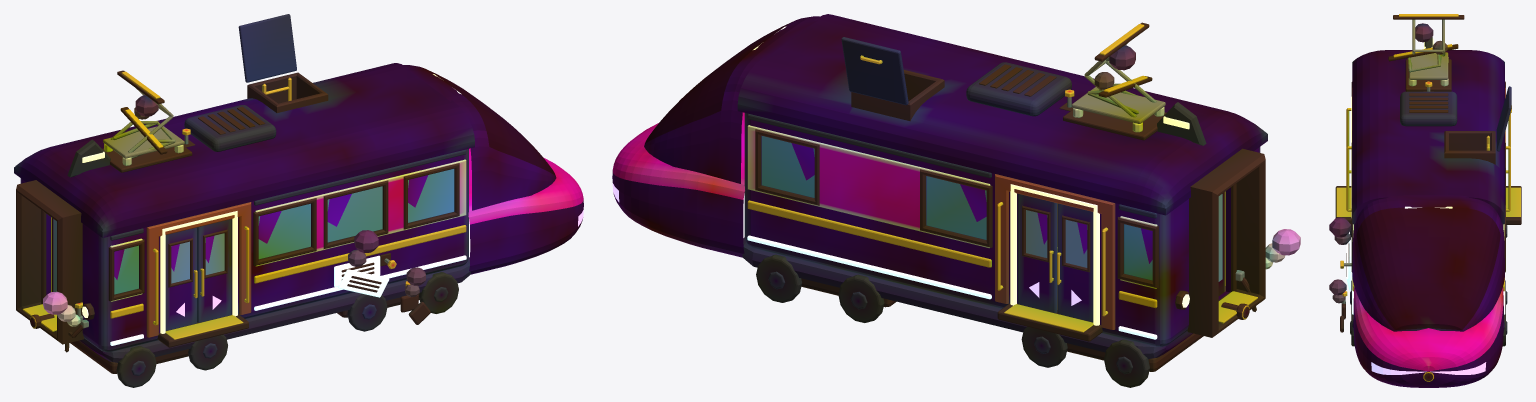
Rendered from FuturisticCabCar_Blockout.glb.
3 renders of one model, left to right at view 1: azimuth 30°, elevation 25°; view 2: azimuth 150°, elevation 25°; view 3: azimuth 270°, elevation 25°, orthographic. The views are drawn at different scales.
Parts seen in each view (by area): view 1: Roof, Body, Nose, Windows, Underframe, Ends, Livery, DoorPortal, SideDoorLeaf_R, SideDoorLeaf_L, RoofHatch_Cab, WindowBand (+8 smaller); view 2: Roof, Body, Nose, Underframe, Windows, Ends, WindowBand, Livery, SideDoorLeaf_R_Far, DoorPortal, SideDoorLeaf_L_Far, RoofHatch_Cab (+6 smaller); view 3: Nose, Roof, Broken_Bits__Pantograph, SideDoorSill, SideDoorSill_Far, Fixed_Rail__Pantograph, Broken_Bits__PowerCell, RoofHatch_Cab, Windows, Underframe, Broken_Bits__AxleBox, Livery.
Boxes of the visible parts, <box> form: Roof: <box>14,63,474,237</box>; Body: <box>20,149,468,352</box>; Nose: <box>403,65,583,274</box>; Windows: <box>108,163,459,301</box>; Underframe: <box>70,257,470,387</box>; Ends: <box>16,180,94,344</box>; Livery: <box>110,149,466,345</box>; DoorPortal: <box>146,202,251,337</box>; SideDoorLeaf_R: <box>197,219,231,322</box>; SideDoorLeaf_L: <box>165,227,197,330</box>; RoofHatch_Cab: <box>238,14,296,82</box>; WindowBand: <box>110,159,466,301</box>; Roof: <box>737,14,1267,215</box>; Body: <box>744,113,1260,346</box>; Nose: <box>612,16,819,257</box>; Underframe: <box>742,237,1203,387</box>; Windows: <box>755,129,1158,288</box>; Ends: <box>1175,148,1265,337</box>; WindowBand: <box>747,125,1157,288</box>; Livery: <box>747,113,1157,339</box>; SideDoorLeaf_R_Far: <box>1017,193,1057,312</box>; DoorPortal: <box>995,174,1115,329</box>; SideDoorLeaf_L_Far: <box>1057,203,1093,322</box>; RoofHatch_Cab: <box>841,37,908,105</box>; Nose: <box>1352,195,1504,387</box>; Roof: <box>1352,36,1504,223</box>; Broken_Bits__Pantograph: <box>1388,23,1458,72</box>; SideDoorSill: <box>1335,108,1351,224</box>; SideDoorSill_Far: <box>1506,113,1521,224</box>; Fixed_Rail__Pantograph: <box>1393,14,1464,56</box>; Broken_Bits__PowerCell: <box>1329,217,1351,290</box>; RoofHatch_Cab: <box>1496,86,1511,151</box>; Windows: <box>1351,81,1505,272</box>; Underframe: <box>1350,225,1507,346</box>; Broken_Bits__AxleBox: <box>1329,279,1346,332</box>; Livery: <box>1352,223,1505,314</box>.
Bounding box in the file's own units: 9.61 × 4.29 × 3.35.
